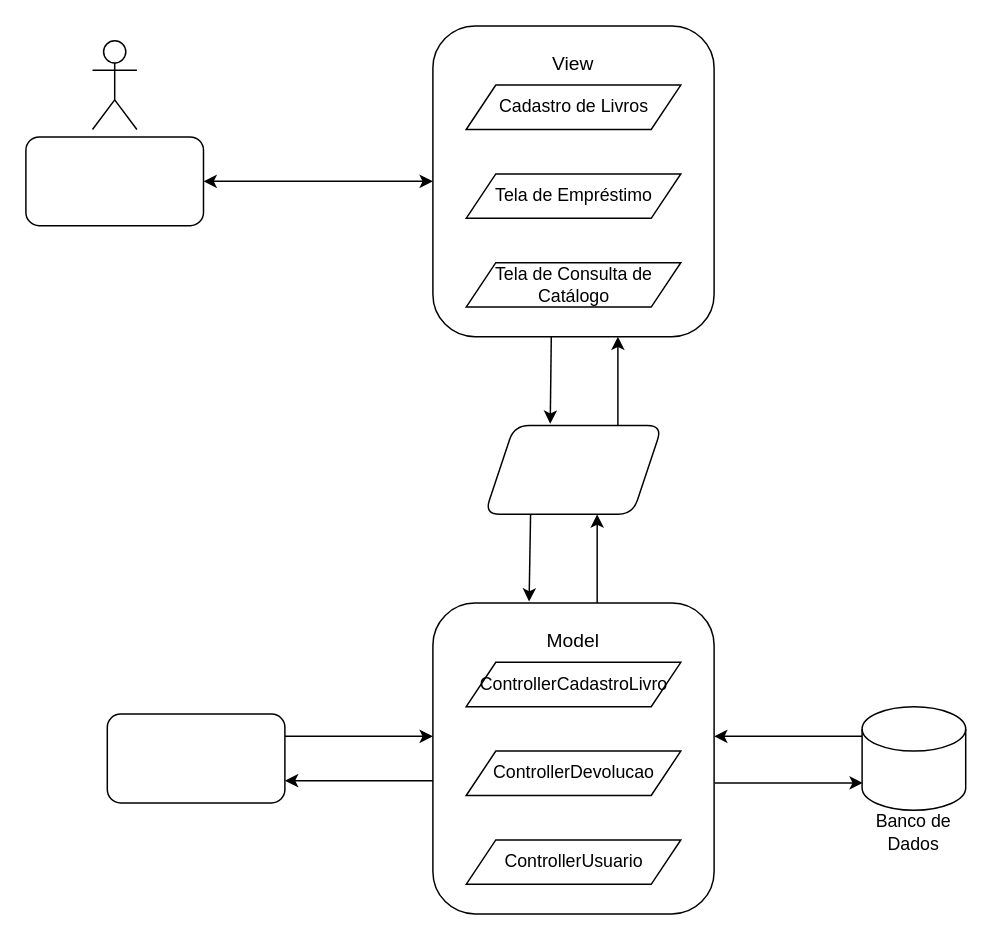
Some shapes in this 992 by 940 pixel diagram are drawn without their labels. The shapes that lost their labels are listed below. From the top down, each one's centre as x and y in pixels, then its label:
At (114,180): "Interface de Usuário".
At (572,469): "Controller".
At (195,758): "API Externa".
